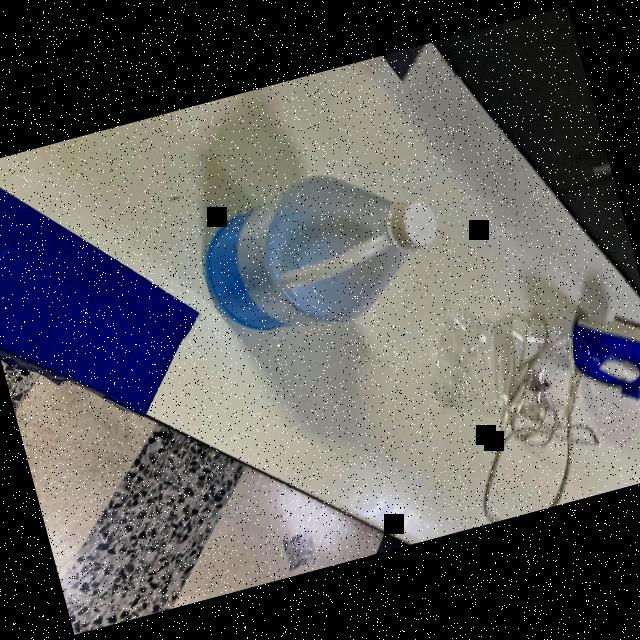chemical_plastic_gallon: (176, 132, 466, 382)
